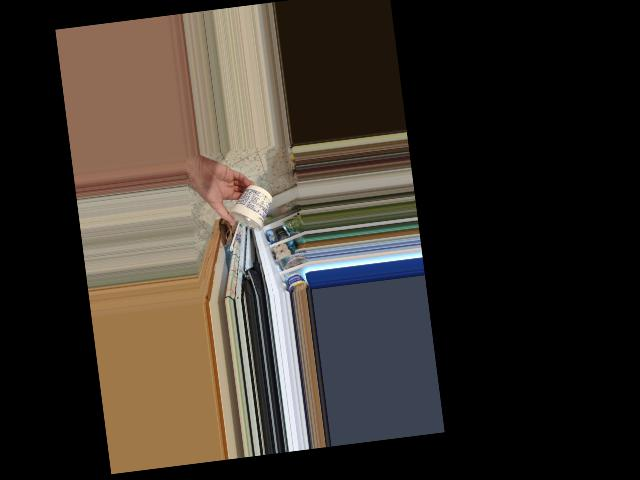cotage: (229, 189, 270, 235)
